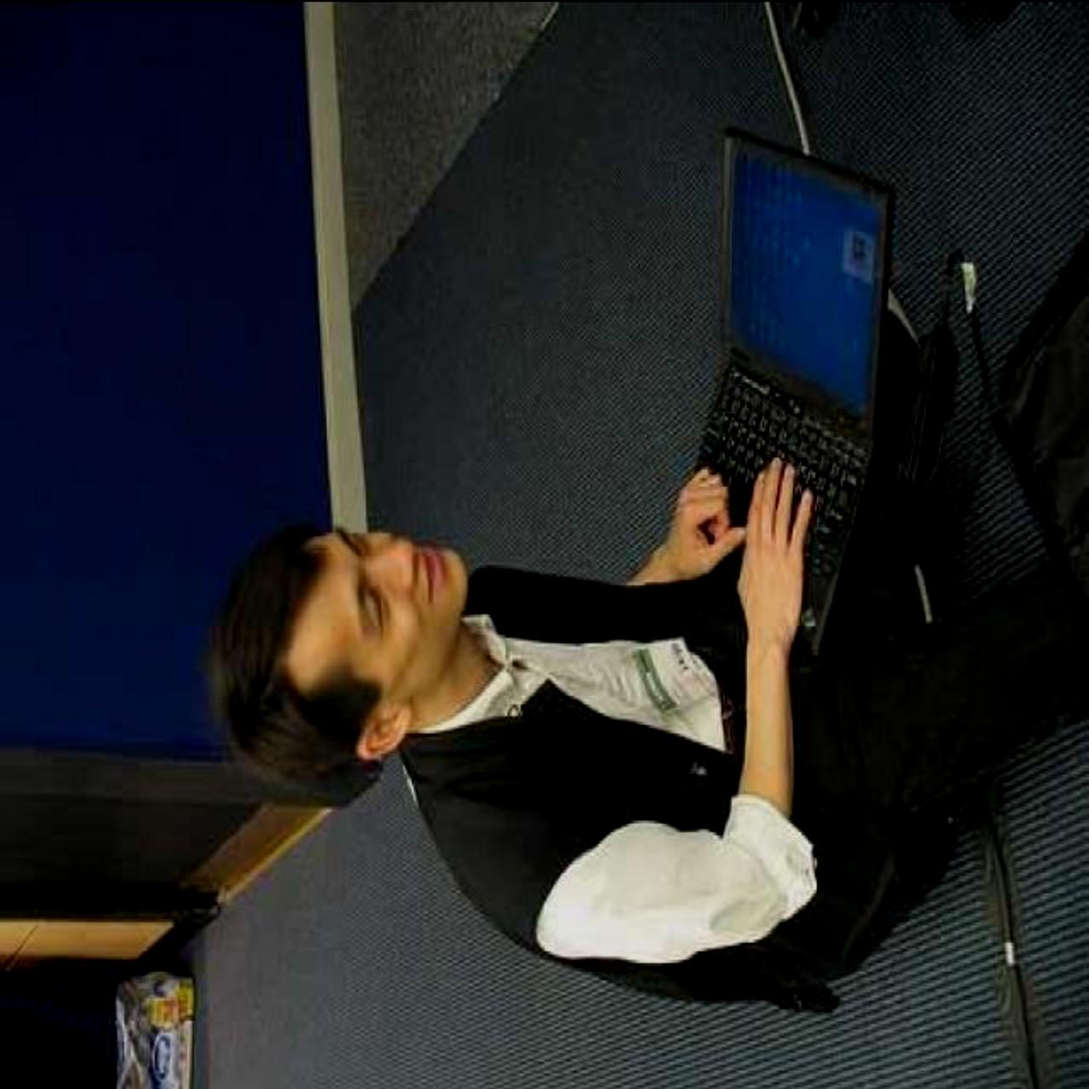laptop: (691, 104, 946, 590)
